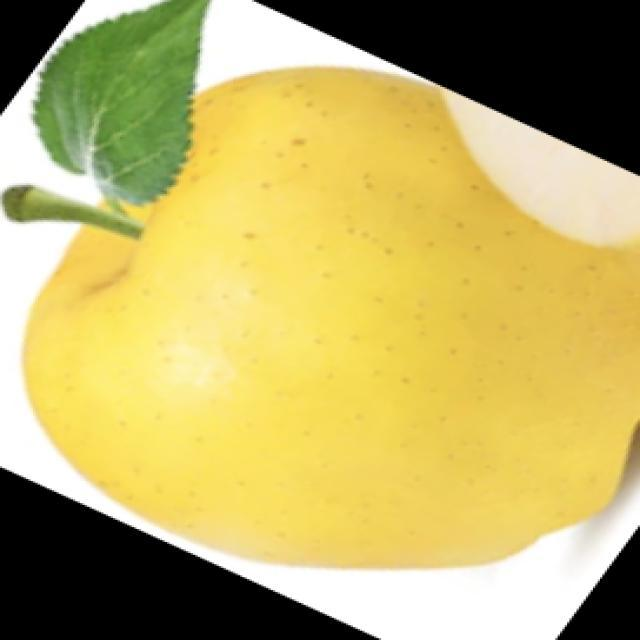Apple: (19, 64, 639, 570)
